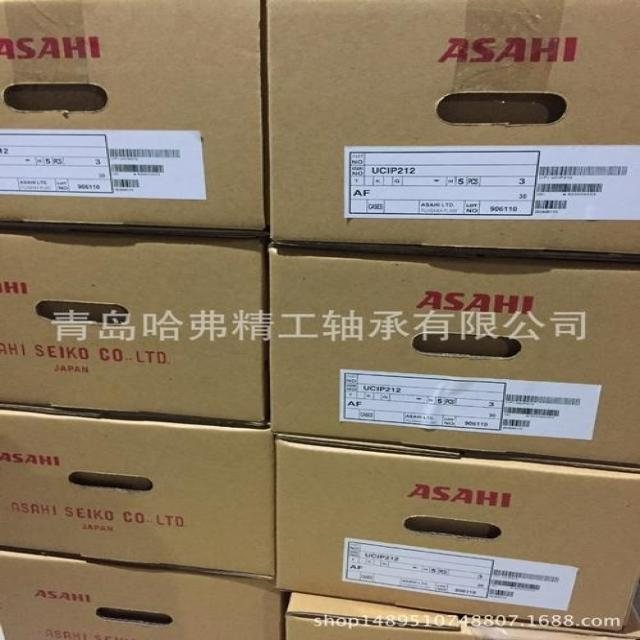box: (263, 1, 639, 251), (266, 247, 639, 473), (276, 433, 639, 631), (1, 1, 265, 232), (0, 225, 269, 427), (1, 414, 273, 576), (0, 547, 291, 639), (285, 592, 638, 639)
